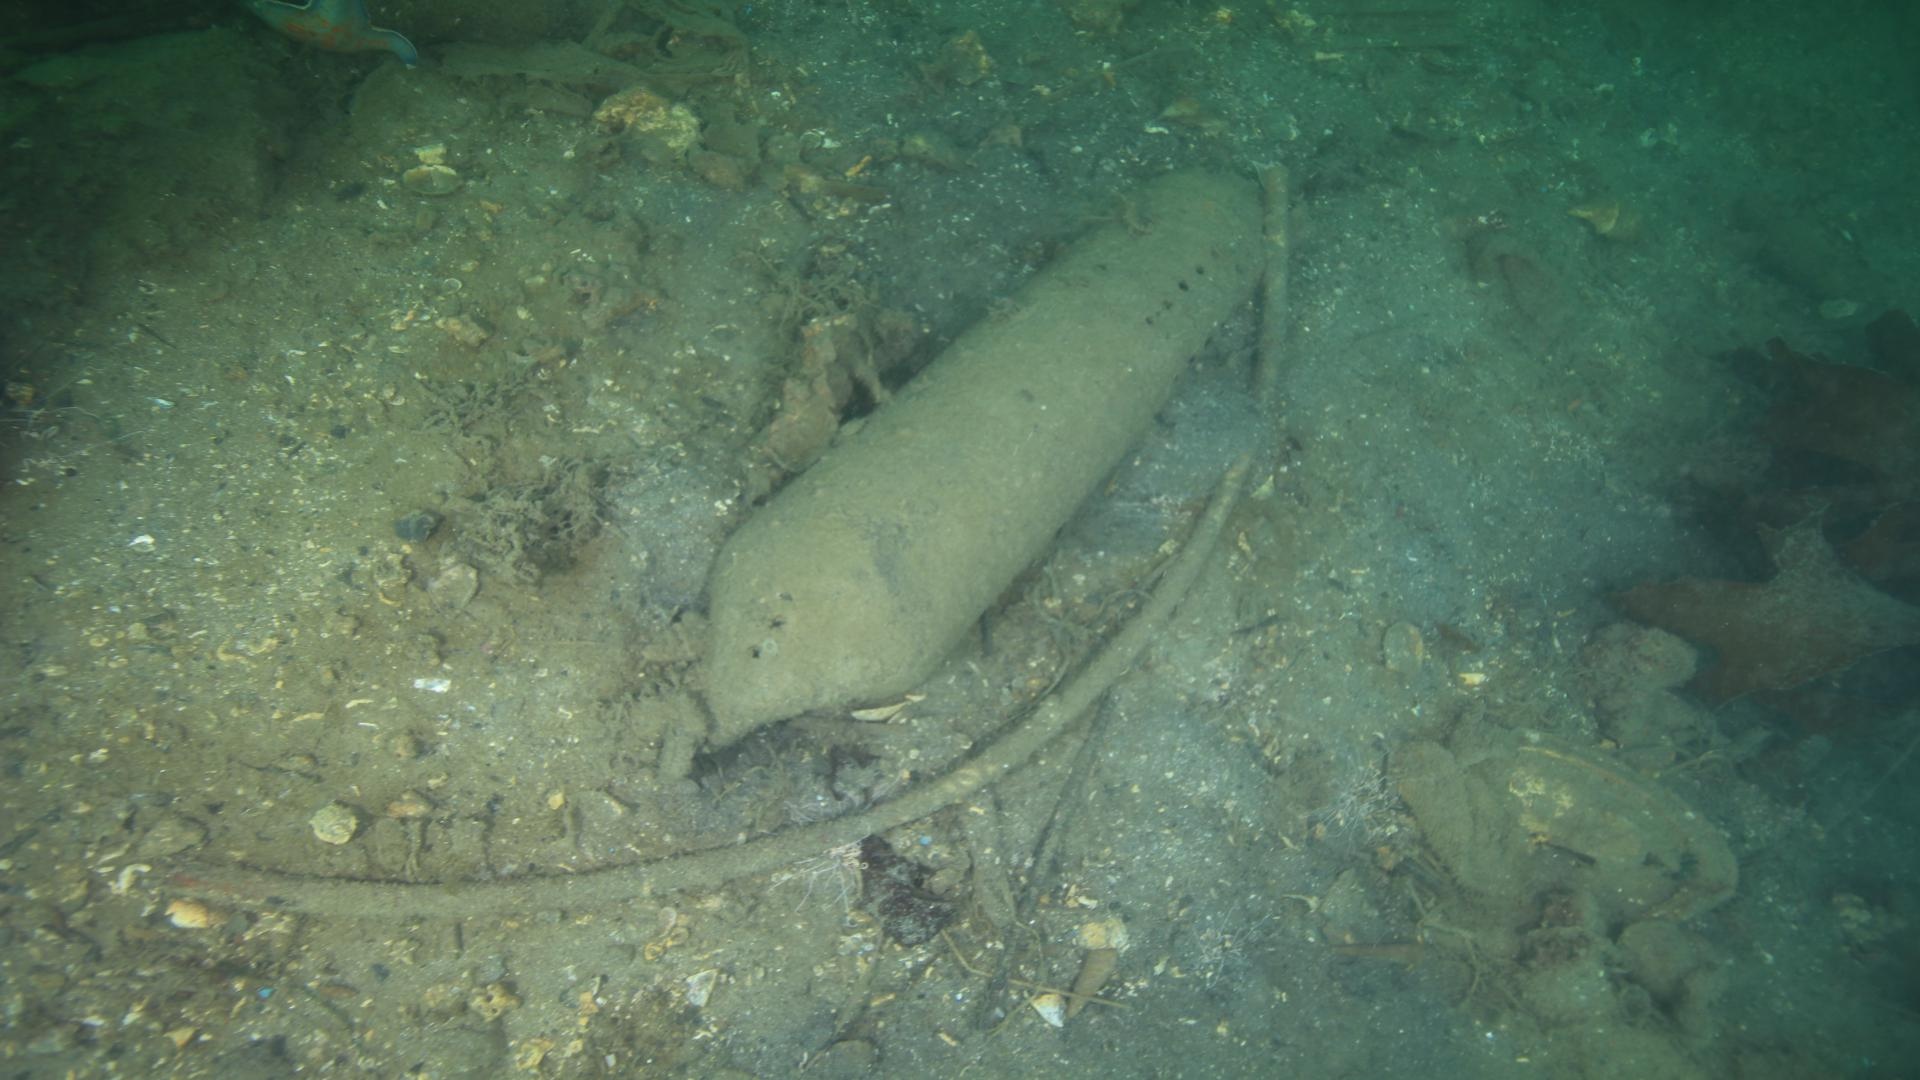eel fish trap: (699, 162, 1275, 753)
